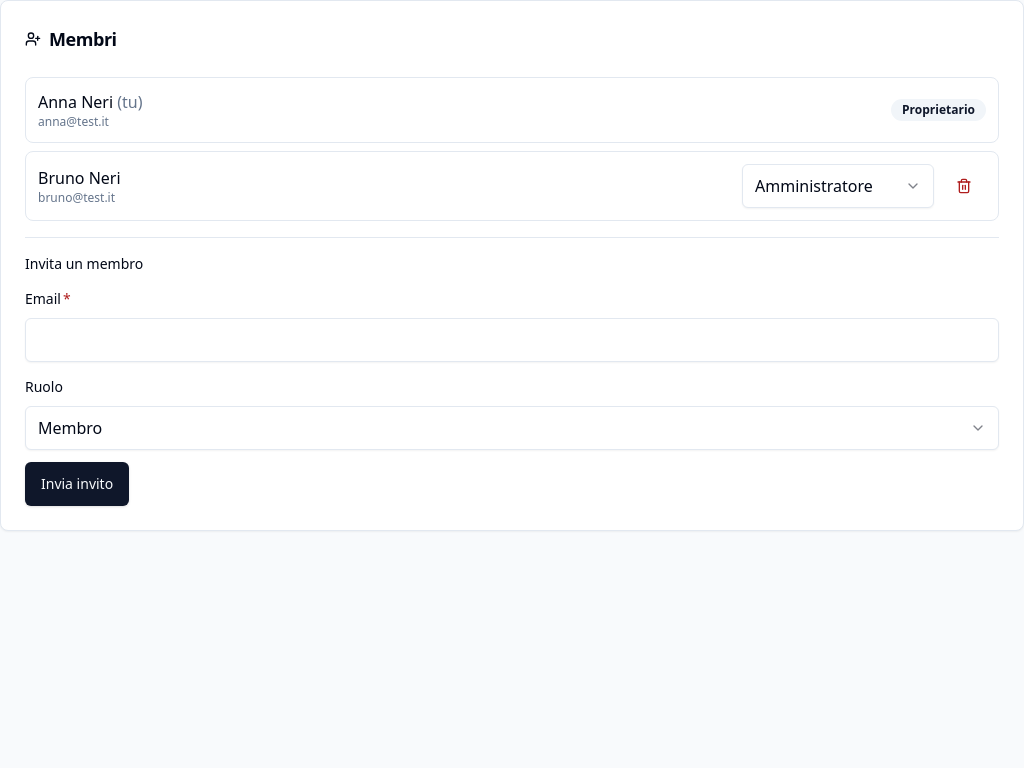
Scenario: MembersCard — cambio di ruolo › confermare un declassamento invia il PATCH, mostra il toast e ricarica membri e inviti
The image size is (1024, 768).
Click the dropdown named "Cambia il ruolo di Bruno Neri": (838, 186) [742,164,934,208]
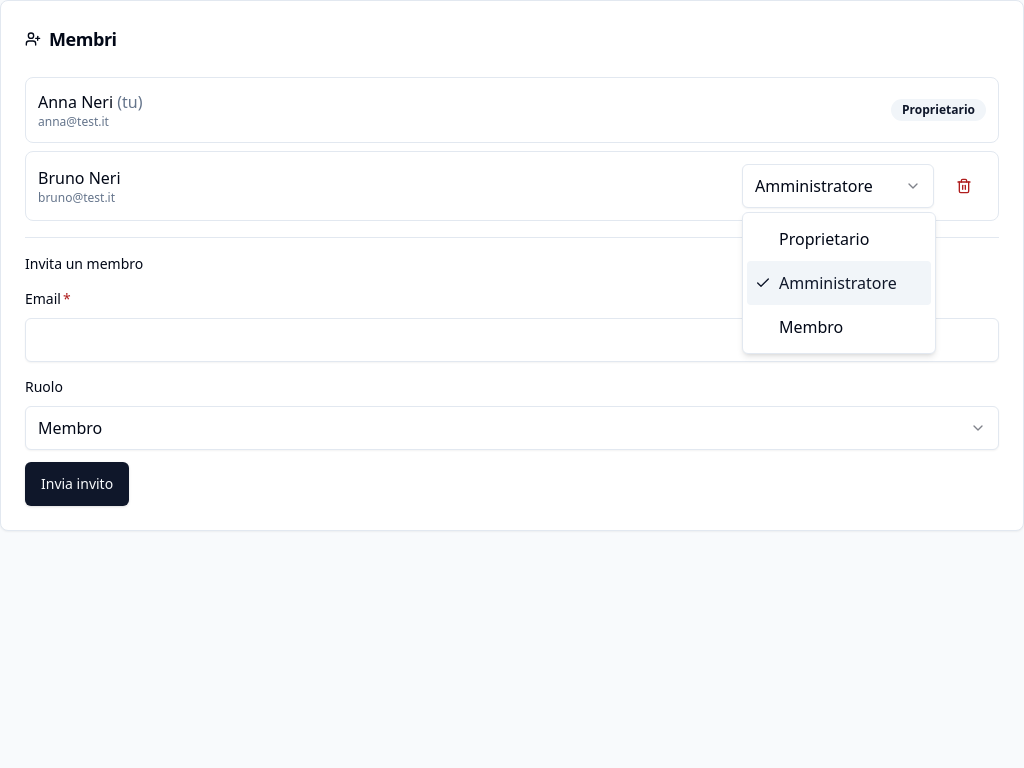
Click the option "Membro": (811, 327) [779,316,843,338]
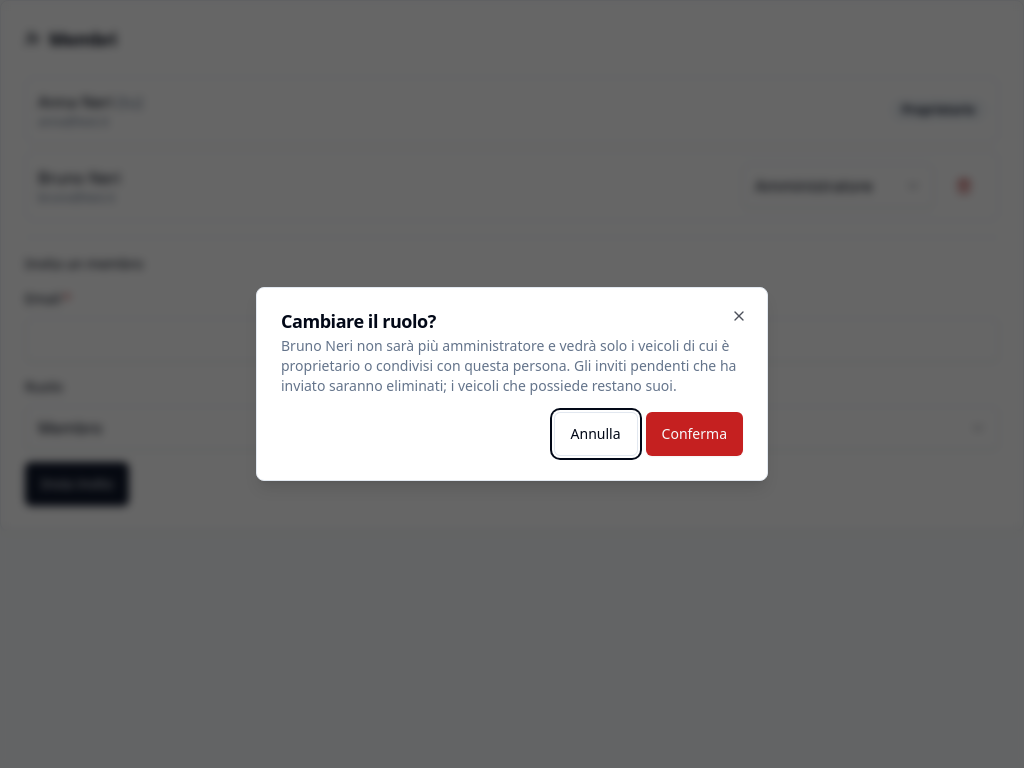
Click the button "Conferma": (694, 434) [646,412,743,456]
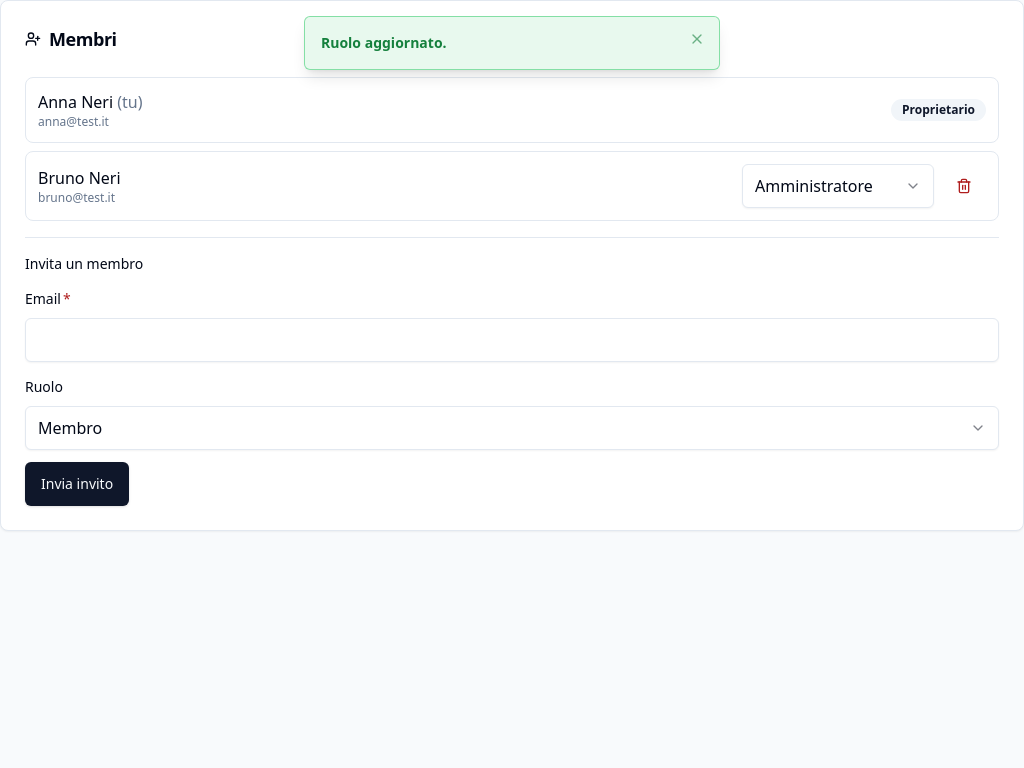
Check: the text "Ruolo aggiornato." is shown, box [321,33,446,53]
